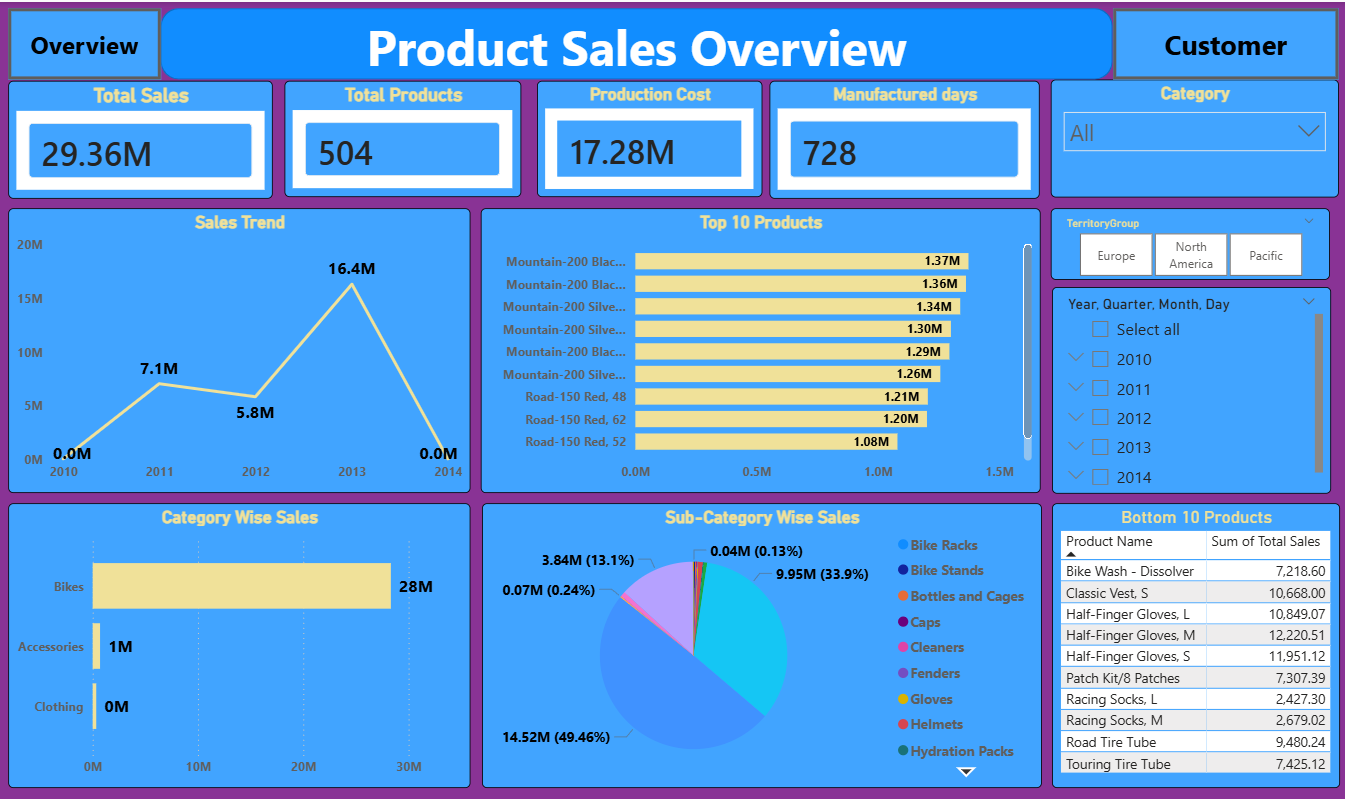

What the dashboard file says about the page in this screenshot:
{"tool":"powerbi","page":{"name":"Product","canvas":[1325,785],"ordinal":2},"visuals":[{"type":"barChart","title":"Category Wise Sales","fields":{"Category":["DimProdCategory.EnglishProductCategoryName"],"Y":["Sum(Total Sales.Total Sales)"]},"box":[11.4,492.9,454.3,280],"z":0},{"type":"pieChart","title":"Sub-Category Wise Sales","fields":{"Category":["DimProdSubCategory.EnglishProductSubcategoryName"],"Y":["Sum(Total Sales.Total Sales)"]},"box":[477.1,492.9,550,280],"z":1000},{"type":"lineChart","title":"Sales Trend","fields":{"Category":["Total Sales.OrderDate.Variation.Date Hierarchy.Year","Total Sales.OrderDate.Variation.Date Hierarchy.Quarter","Total Sales.OrderDate.Variation.Date Hierarchy.Month","Total Sales.OrderDate.Variation.Date Hierarchy.Day"],"Y":["Sum(Total Sales.Total Sales)"]},"box":[11.4,202.9,454.3,280],"z":2000},{"type":"clusteredBarChart","title":"Top 10 Products","fields":{"Category":["Total Sales.Product Name"],"Y":["Sum(Total Sales.Total Sales)"]},"box":[475.7,202.9,550,280],"z":3000},{"type":"tableEx","title":"Bottom 10 Products","fields":{"Values":["Total Sales.Product Name","Sum(Total Sales.Total Sales)"]},"box":[1037.1,492.9,282.9,280],"z":4000},{"type":"slicer","fields":{"Values":["Total Sales.OrderDate.Variation.Date Hierarchy.Year","Total Sales.OrderDate.Variation.Date Hierarchy.Quarter","Total Sales.OrderDate.Variation.Date Hierarchy.Month","Total Sales.OrderDate.Variation.Date Hierarchy.Day"]},"box":[1037.1,280,274.3,202.9],"z":5000},{"type":"slicer","fields":{"Values":["DimSalesTerritory.SalesTerritoryGroup"]},"box":[1035.7,202.9,274.3,70],"z":6000},{"type":"cardVisual","title":"Total Sales","fields":{"Data":["Sum(Total Sales.SalesAmount)"]},"box":[11.4,77.1,260,115.7],"z":7000},{"type":"cardVisual","title":"Total Products","fields":{"Data":["Count(DimProduct.EnglishProductName)"]},"box":[282.9,77.1,232.9,114.3],"z":8000},{"type":"cardVisual","title":"Production Cost","fields":{"Data":["Sum(Total Sales.TotalProductCost)"]},"box":[531.4,77.1,221.4,114.3],"z":9000},{"type":"cardVisual","title":"Manufactured days","fields":{"Data":["Sum(DimProduct.DaysToManufacture)"]},"box":[760,77.1,265.7,115.7],"z":10000},{"type":"slicer","title":"Category","fields":{"Values":["DimProdCategory.EnglishProductCategoryName"]},"box":[1035.7,75.7,282.9,115.7],"z":11000},{"type":"shape","box":[161.4,5.7,935.7,70],"z":12000},{"type":"actionButton","box":[11.4,5.7,150,70],"z":13000},{"type":"actionButton","box":[1097.1,5.7,221.4,70],"z":14000}]}

Visuals, with their boxes in screenshot pixels (x1, y1, x2, y2), scaled from the page's 1325x785 canvas onto the 1345x799 screenshot:
"Category Wise Sales" barChart: 12/502/473/787
"Sub-Category Wise Sales" pieChart: 484/502/1043/787
"Sales Trend" lineChart: 12/207/473/492
"Top 10 Products" clusteredBarChart: 483/207/1041/492
"Bottom 10 Products" tableEx: 1053/502/1340/787
slicer - Total Sales.OrderDate.Variation.Date Hierarchy.Year x Total Sales.OrderDate.Variation.Date Hierarchy.Quarter: 1053/285/1331/492
slicer - DimSalesTerritory.SalesTerritoryGroup: 1051/207/1330/278
"Total Sales" cardVisual: 12/78/275/196
"Total Products" cardVisual: 287/78/524/195
"Production Cost" cardVisual: 539/78/764/195
"Manufactured days" cardVisual: 771/78/1041/196
"Category" slicer: 1051/77/1339/195
shape: 164/6/1114/77
actionButton: 12/6/164/77
actionButton: 1114/6/1338/77
